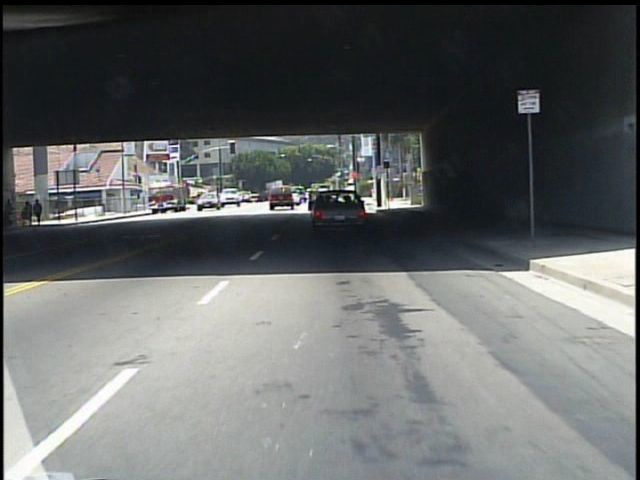person: (21, 201, 35, 229), (35, 200, 46, 229)
